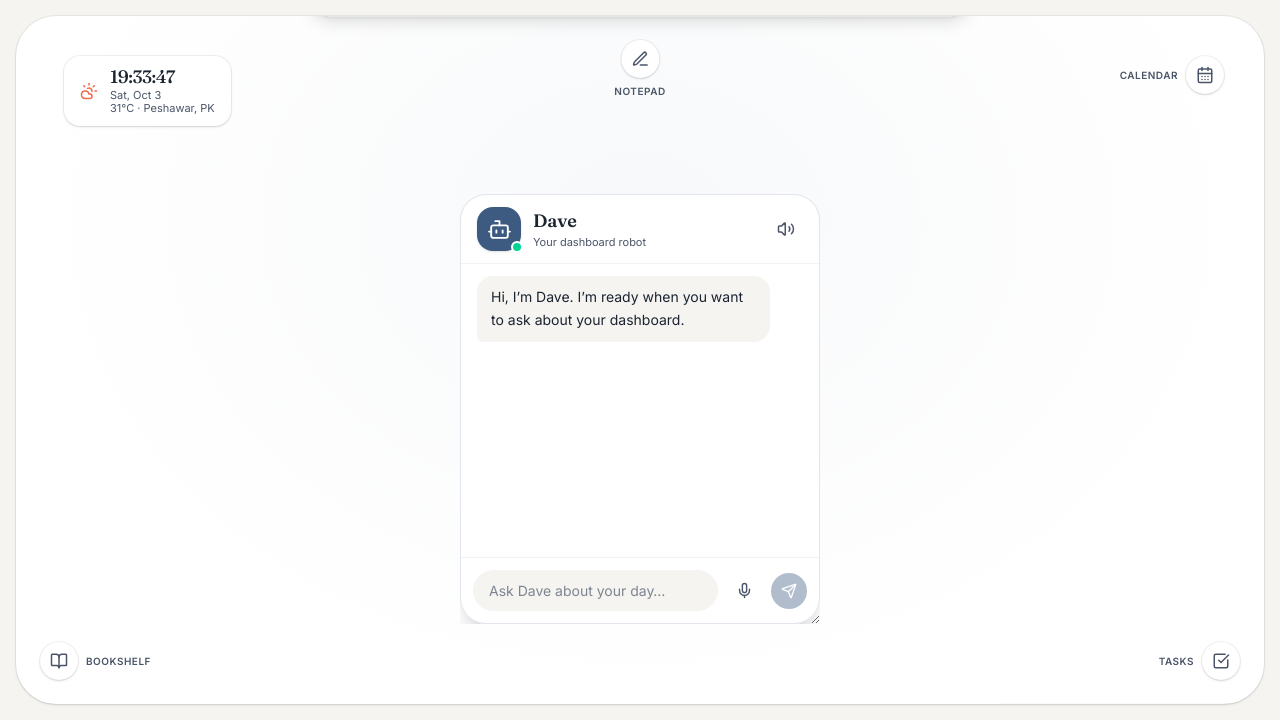
Test case: DashboardPage › toggles tasks panel
Click the button named "Toggle tasks panel" at [1221, 661], box [1202,642,1240,680]
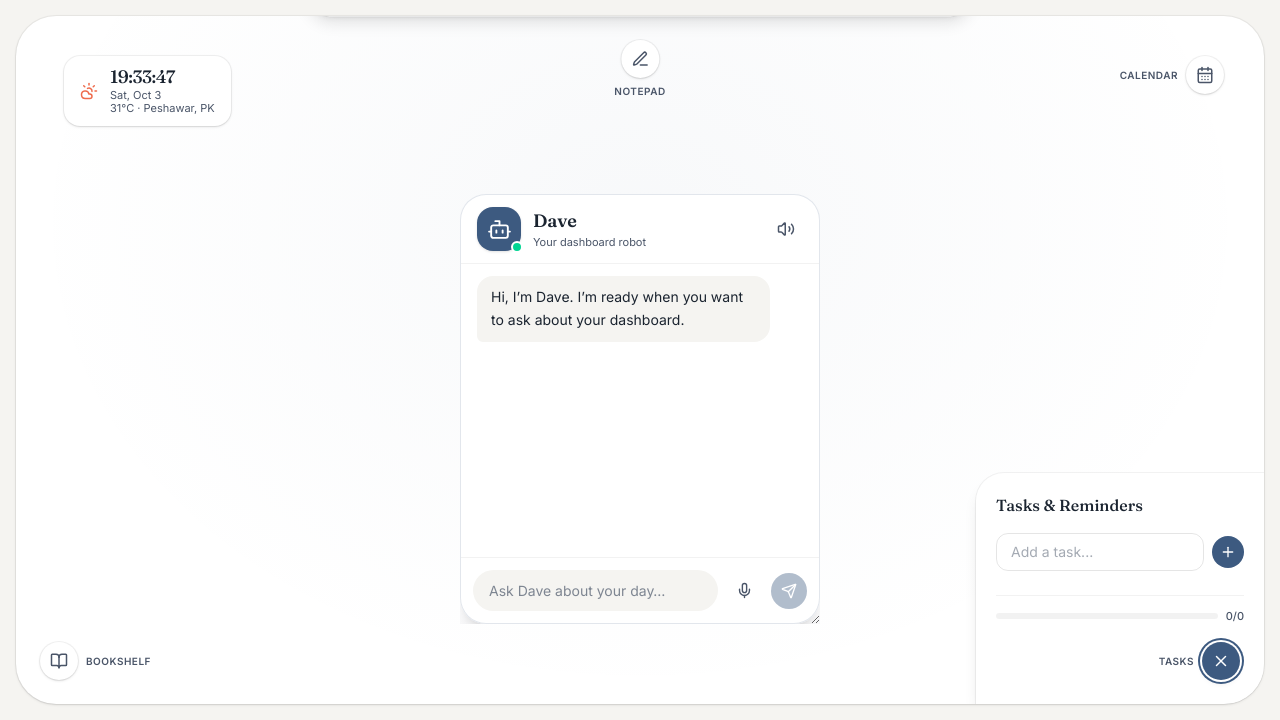
Expected: the heading "Tasks & Reminders" is shown, [996,494,1143,514]
